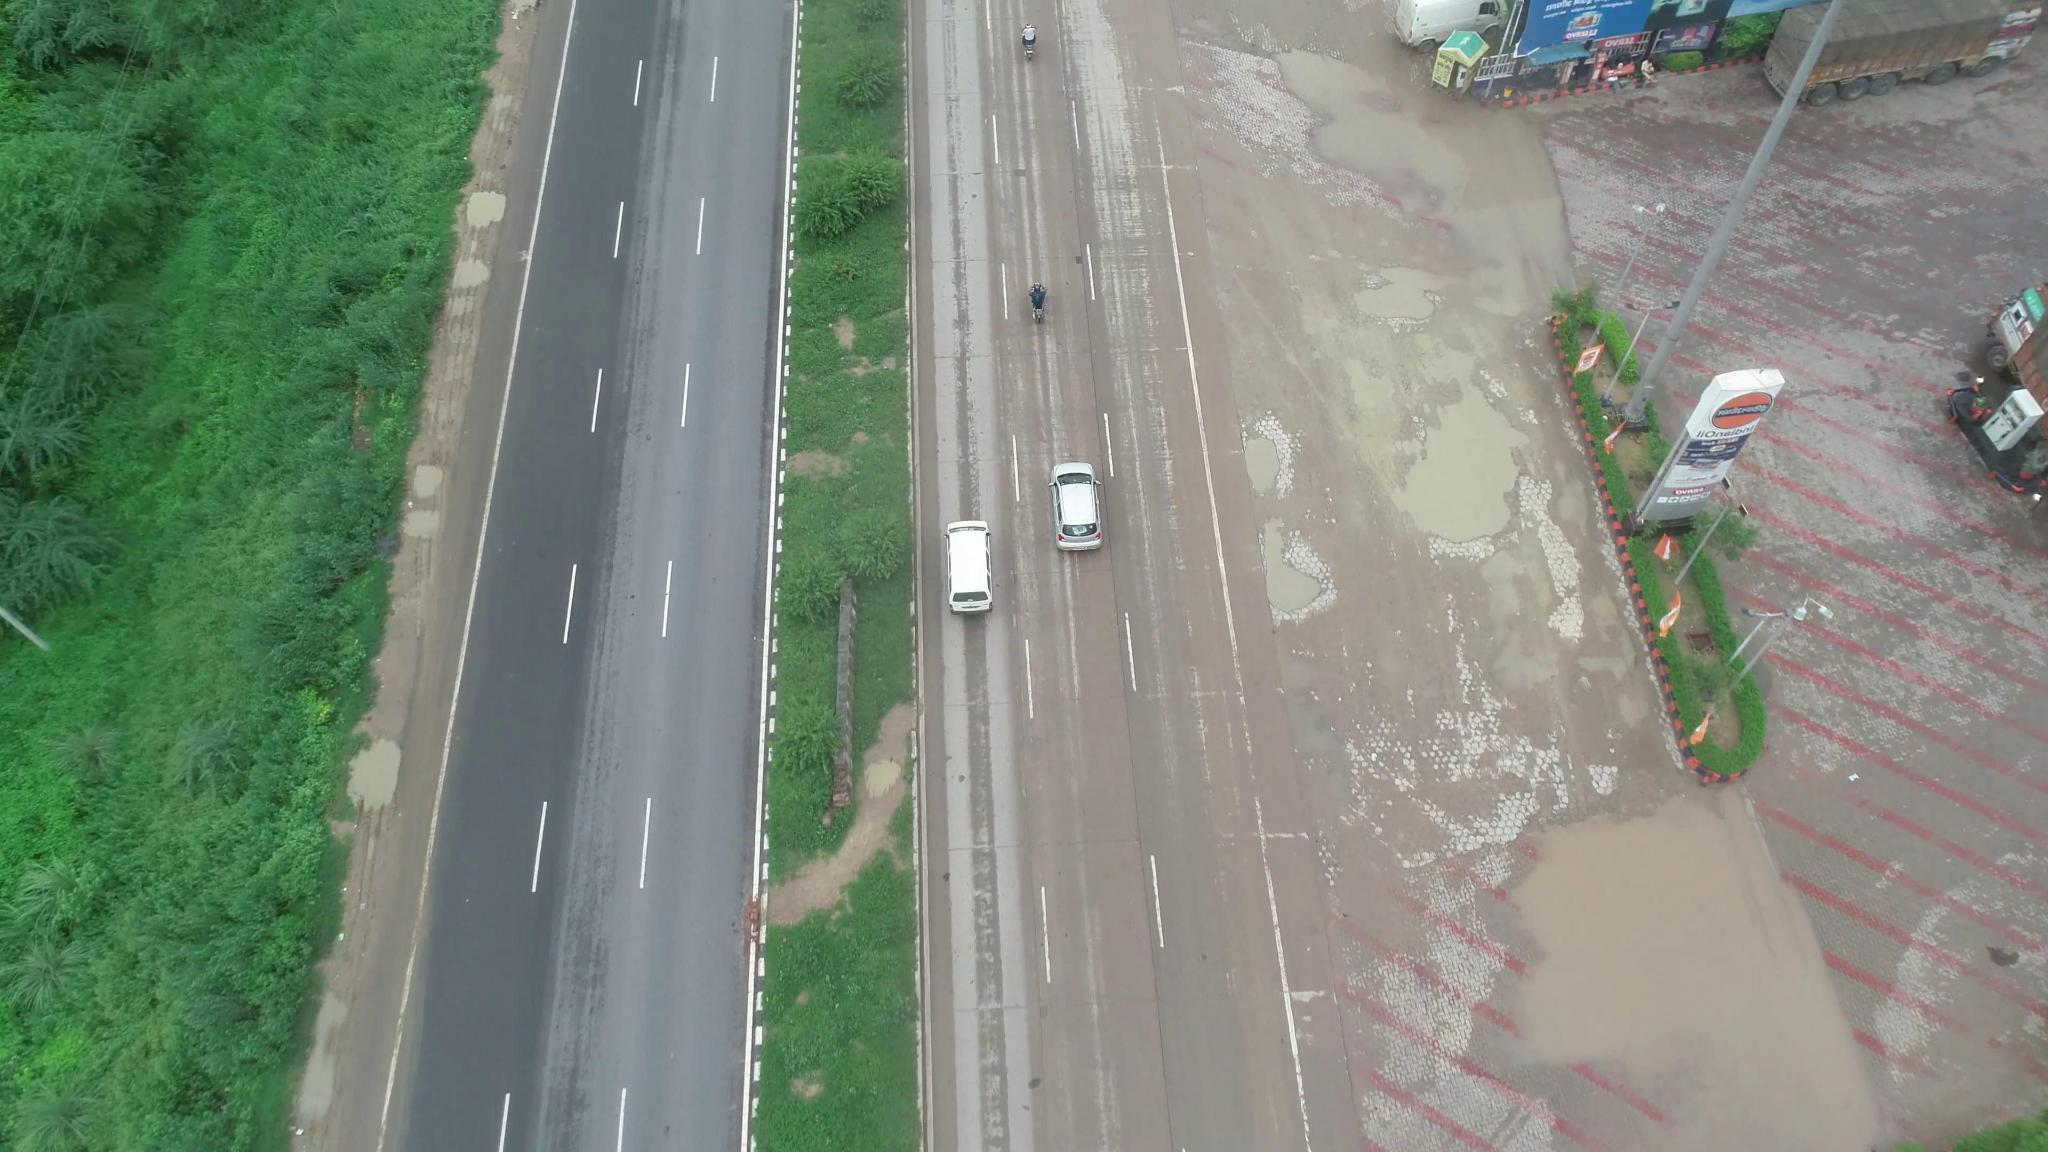Waterlogging: (1363, 388, 1547, 557)
